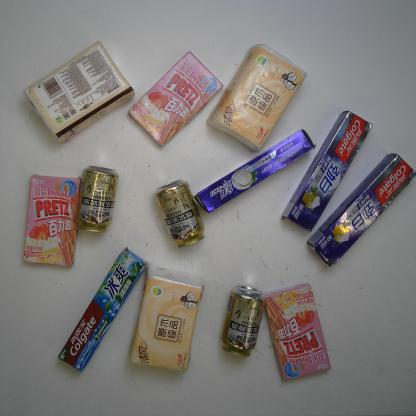Alcohol: (153, 178, 206, 247), (220, 282, 264, 358), (74, 165, 120, 234)
Dessert: (127, 51, 225, 149), (263, 281, 332, 383), (21, 172, 83, 269)
Personal Hygiene: (305, 153, 416, 268), (55, 247, 149, 373), (279, 110, 374, 233), (191, 128, 317, 214)
Tissue: (23, 40, 138, 146), (206, 43, 308, 154), (127, 267, 207, 375)
